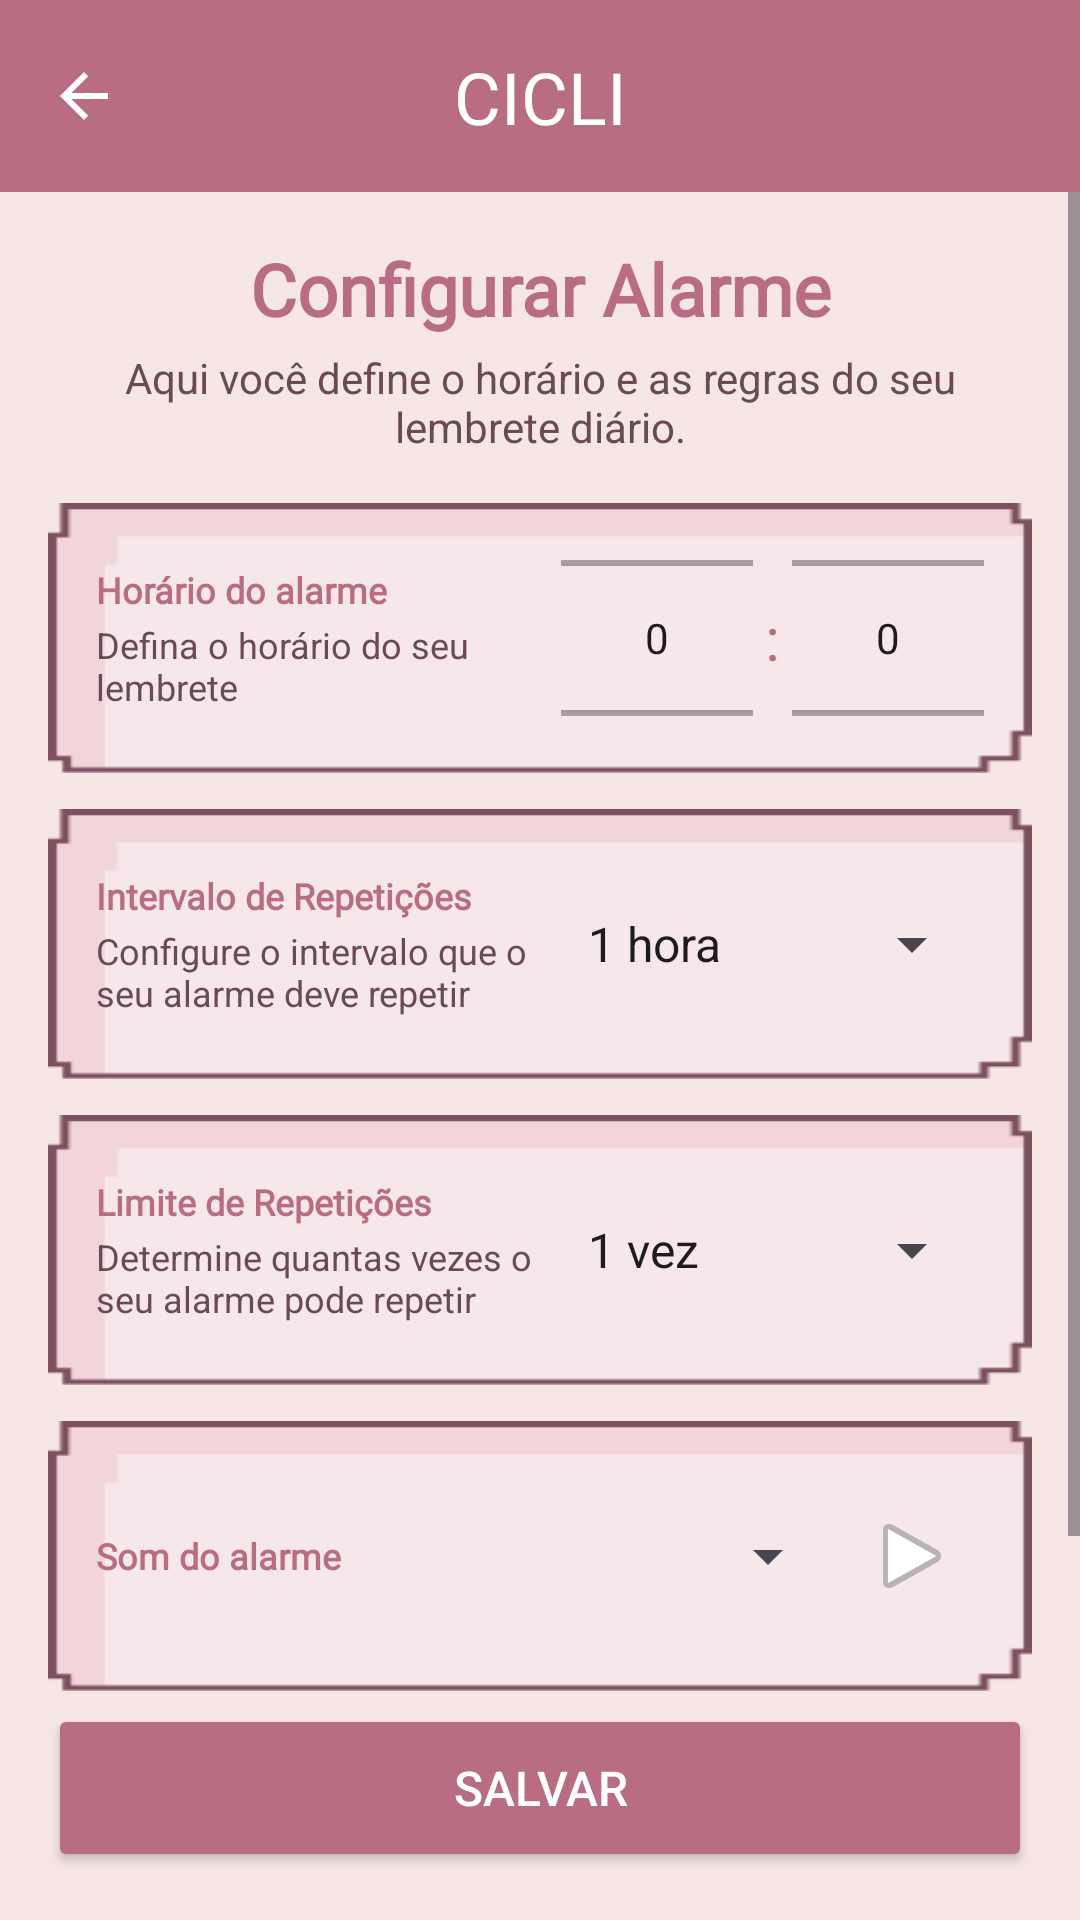

Locate icon controls on the screen. Image size 1080x1920, boxes as (x1=x1, y1=y1, x2=x2, y2=y2).
Ouvir música: (x1=883, y1=1524, x2=941, y2=1588)
